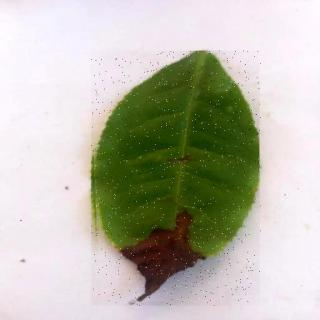Brown Blight: (93, 52, 262, 307)
